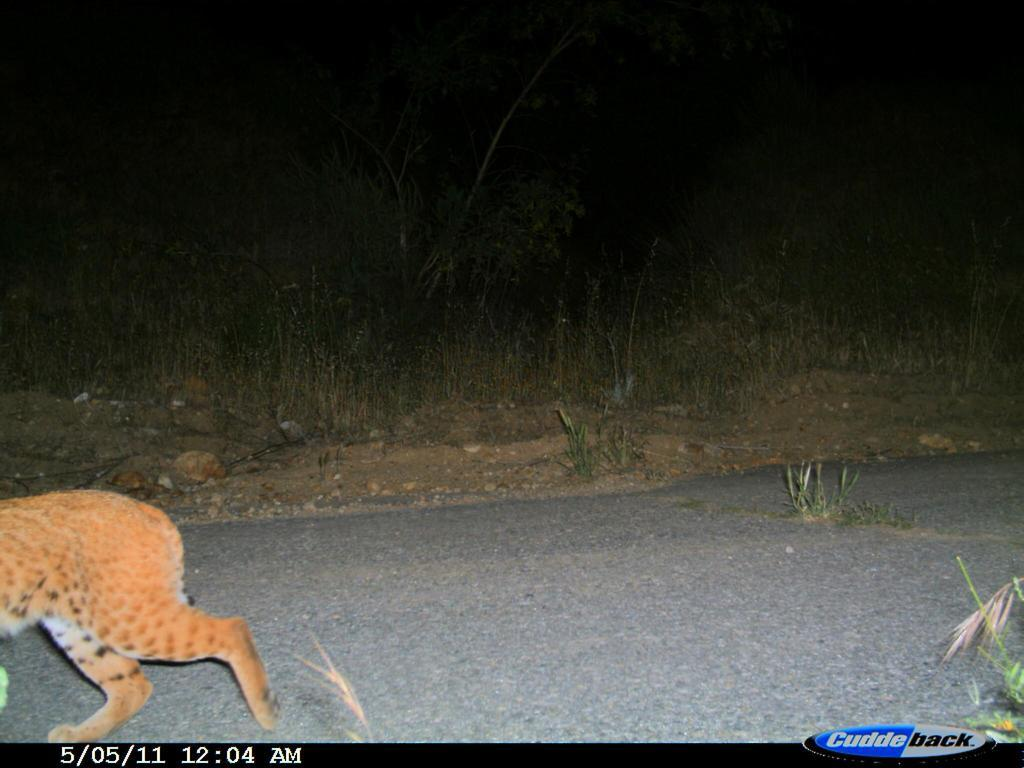bobcat: (2, 479, 285, 740)
